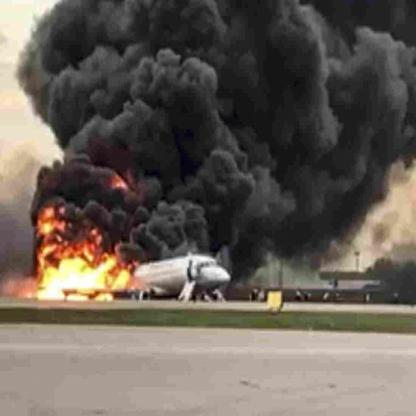CIV_Plane: (121, 250, 231, 302)
